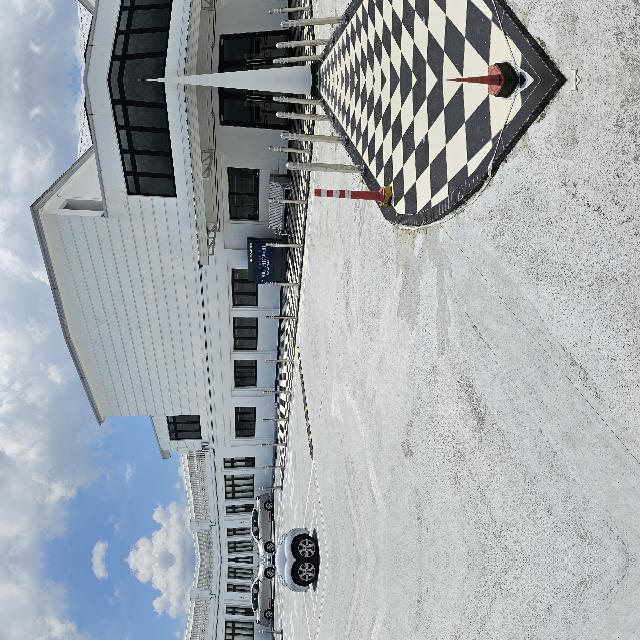door: (429, 297, 473, 377)
obstacle: (351, 390, 377, 474), (322, 346, 386, 374), (386, 368, 404, 444)
